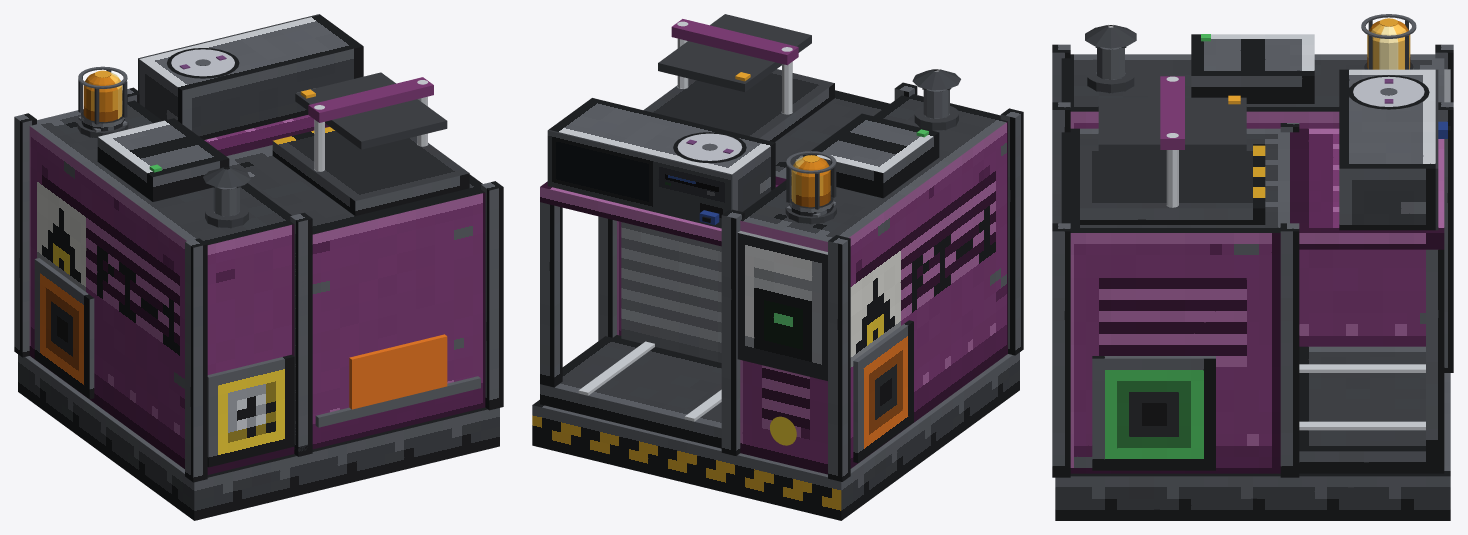
Rendered from preinstaller.glb.
3 views of the same model, side by side, from view 1: azimuth 30°, elevation 25°; view 2: azimuth 150°, elevation 25°; view 3: azimuth 270°, elevation 25° (orthographic). The views are drawn at different scales.
Parts seen in each view (by area): view 1: body, dock_plug, pin_head, carriage, disc, body_glow; view 2: body, shutter, pin_head, disc, body_glow; view 3: body, pin_head, disc, part_0_glow.
Part boxes in pixels (x1,y1,x2,y2): body: [14, 14, 503, 520]; dock_plug: [349, 334, 447, 409]; pin_head: [295, 72, 447, 149]; carriage: [315, 376, 480, 427]; disc: [167, 48, 239, 78]; body_glow: [83, 72, 117, 122]; body: [532, 19, 1023, 520]; shutter: [621, 222, 721, 362]; pin_head: [658, 14, 811, 91]; disc: [673, 132, 746, 163]; body_glow: [796, 157, 830, 207]; body: [1052, 14, 1453, 520]; pin_head: [1098, 97, 1246, 153]; disc: [1348, 75, 1429, 109]; part_0_glow: [1368, 24, 1409, 69].
Size of the model in its own units: 2.03 by 2.08 by 2.03.
1 material, 1 textured.
